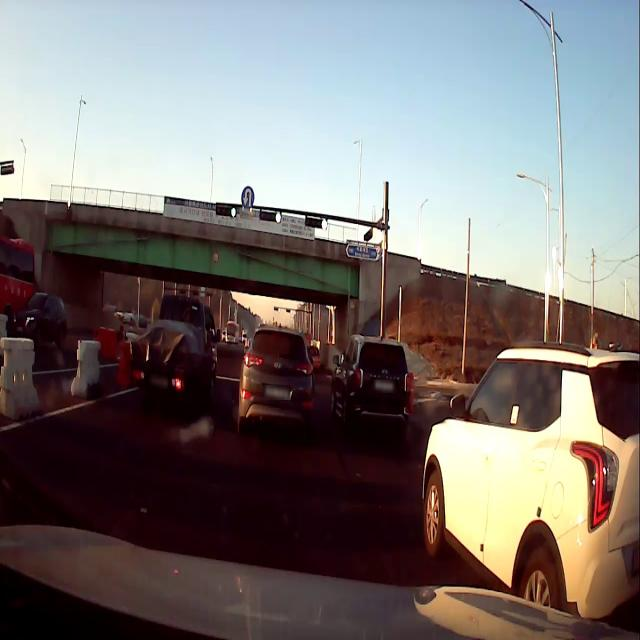Green Light: (274, 211, 282, 224), (320, 218, 328, 230), (230, 205, 236, 218), (290, 310, 293, 314), (278, 308, 280, 312)
